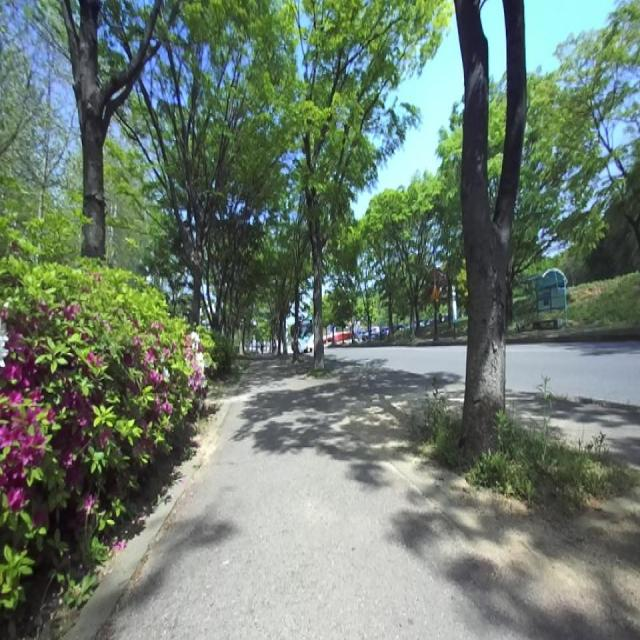sidewalk: (88, 356, 640, 640)
